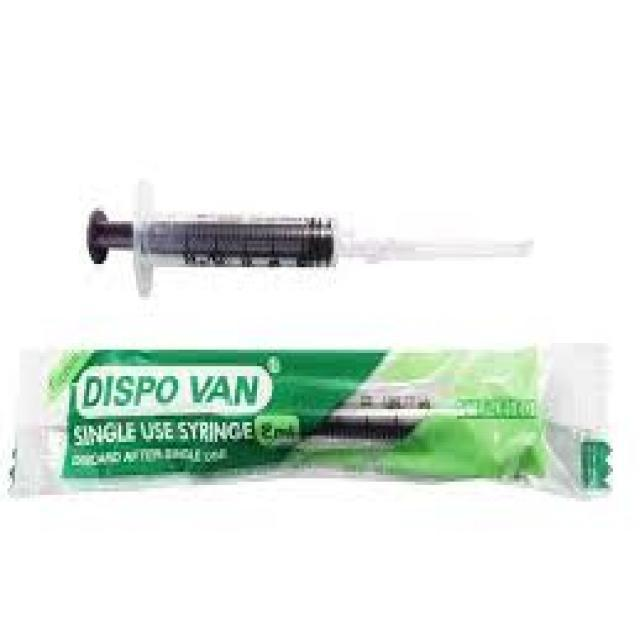syringe: (76, 178, 583, 290)
